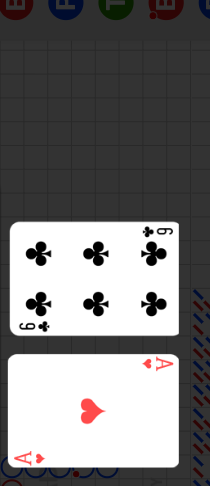6C: (140, 225, 175, 239)
AH: (140, 357, 175, 373)
